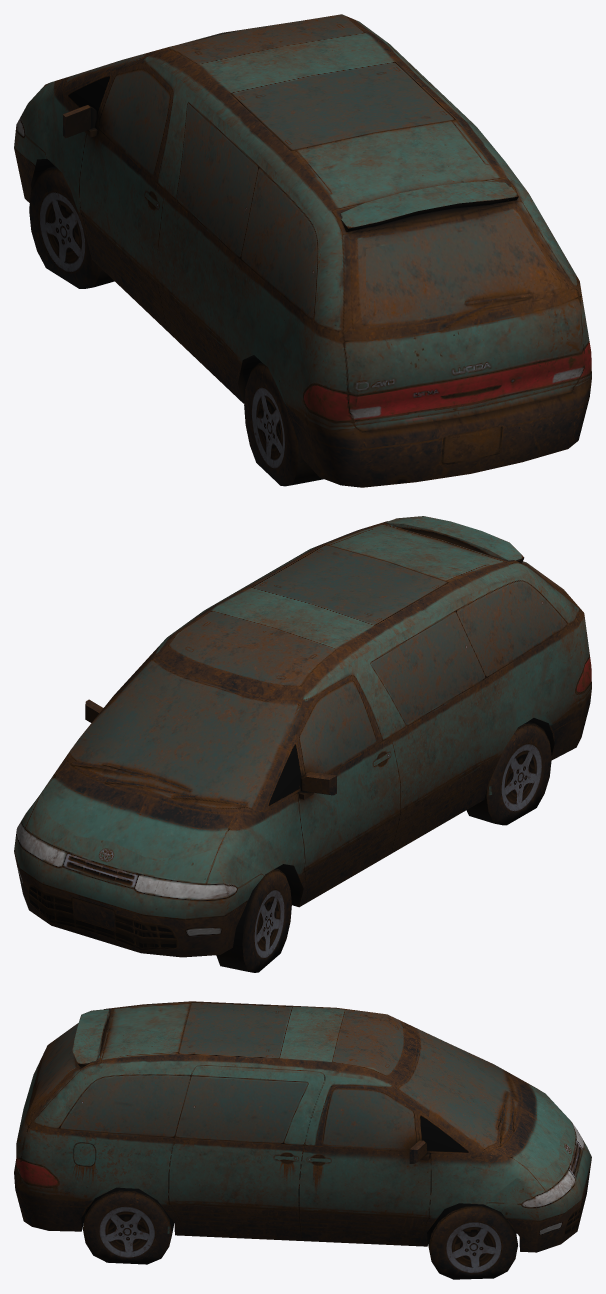
Rendered from wreck-utility.glb.
The picture shows the model from 3 angles, top to bottom: view 1: azimuth 30°, elevation 25°; view 2: azimuth 150°, elevation 25°; view 3: azimuth 270°, elevation 25°; orthographic projection. The views are drawn at different scales.
Visible parts, largest first — view 1: wreck-utility; view 2: wreck-utility; view 3: wreck-utility.
Boxes of the visible parts, left/top/right/bottom form: wreck-utility: left=14, top=14, right=591, bottom=487; wreck-utility: left=14, top=516, right=591, bottom=972; wreck-utility: left=14, top=1001, right=591, bottom=1279.
Bounding box in the file's own units: 2.25 × 1.85 × 4.9.
1 material, 1 textured.
